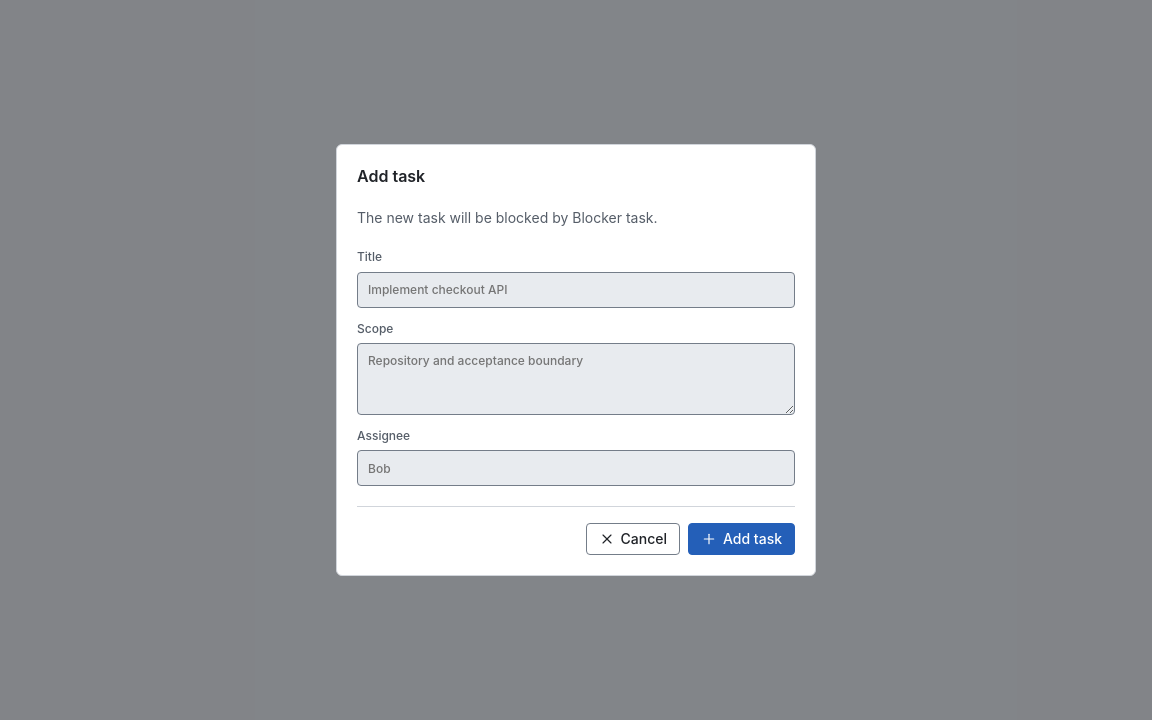
Test: CreateTaskDialog › reports the created task and refreshes the graph when only the dependency fails
Type "Implement checkout" into the field labelled "Title".
click(576, 290); type("Implement checkout")  # box 357,272 -> 795,308
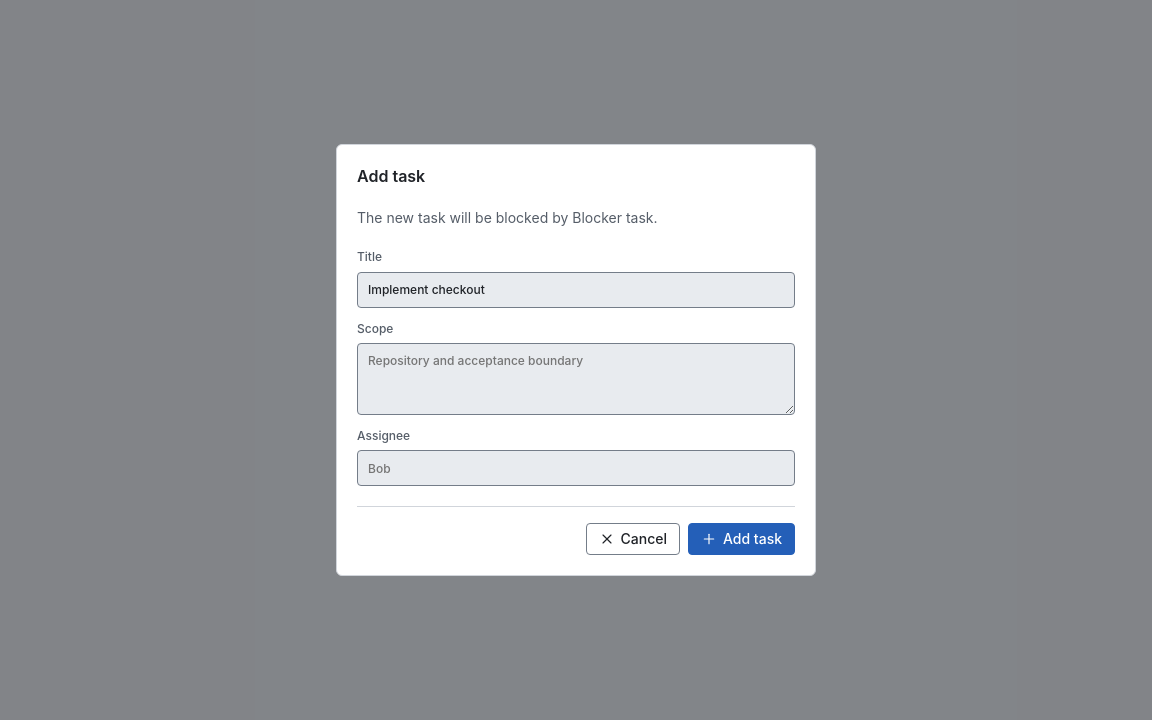
Submit the form named "Create task", box 336,144 -> 816,576
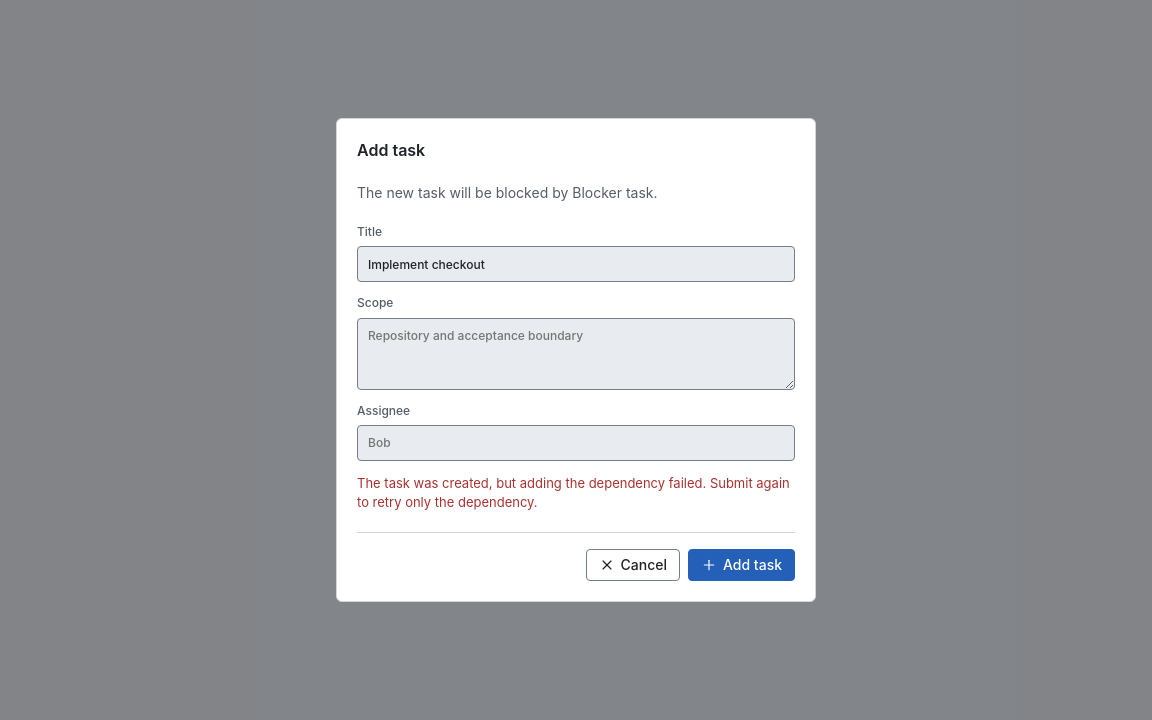
Check: the text "The task was created, but adding the dependency failed. Submit again to retry only the dependency." is shown, box 357,475 -> 790,510
